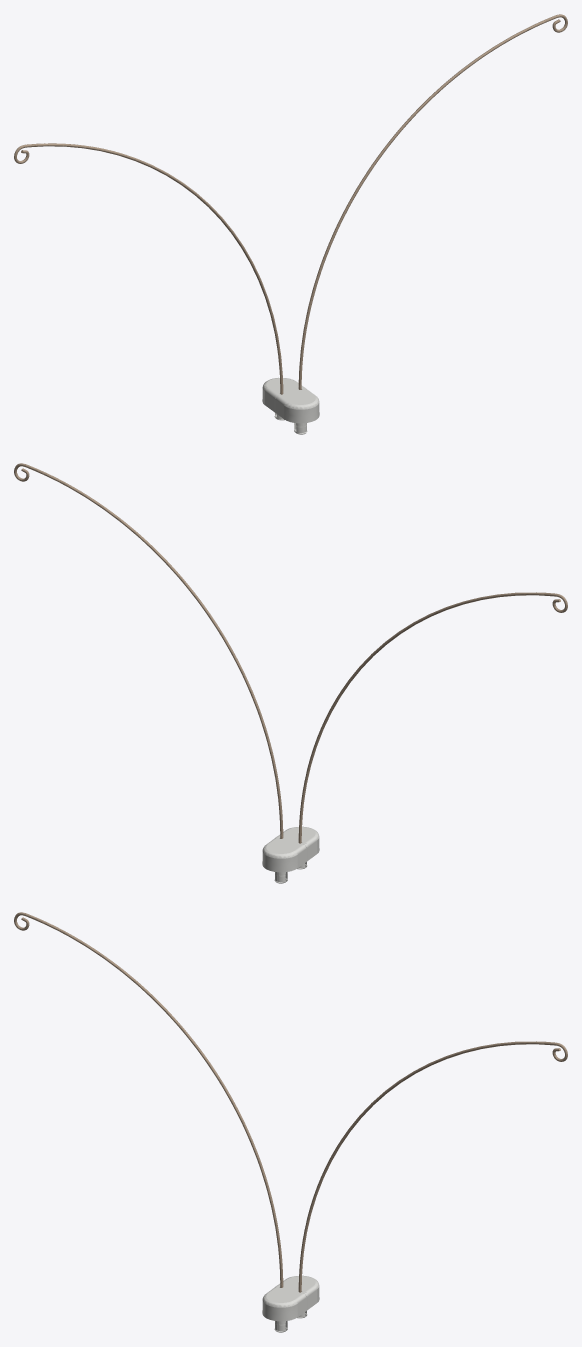
Rendered from Ant Front Antenna (228-2500-320).glb.
3 views of the same model, one above another, from view 1: azimuth 30°, elevation 25°; view 2: azimuth 150°, elevation 25°; view 3: azimuth 330°, elevation 25° (orthographic).
Visible parts, largest first — view 1: Ant Front Antenna (228-2500-320); view 2: Ant Front Antenna (228-2500-320); view 3: Ant Front Antenna (228-2500-320).
Boxes of the visible parts, bbox=[...] form: Ant Front Antenna (228-2500-320): bbox=[14, 14, 567, 434]; Ant Front Antenna (228-2500-320): bbox=[14, 463, 567, 883]; Ant Front Antenna (228-2500-320): bbox=[14, 912, 567, 1332].
Bounding box in the file's own units: 8.25 × 4.92 × 0.9865.
